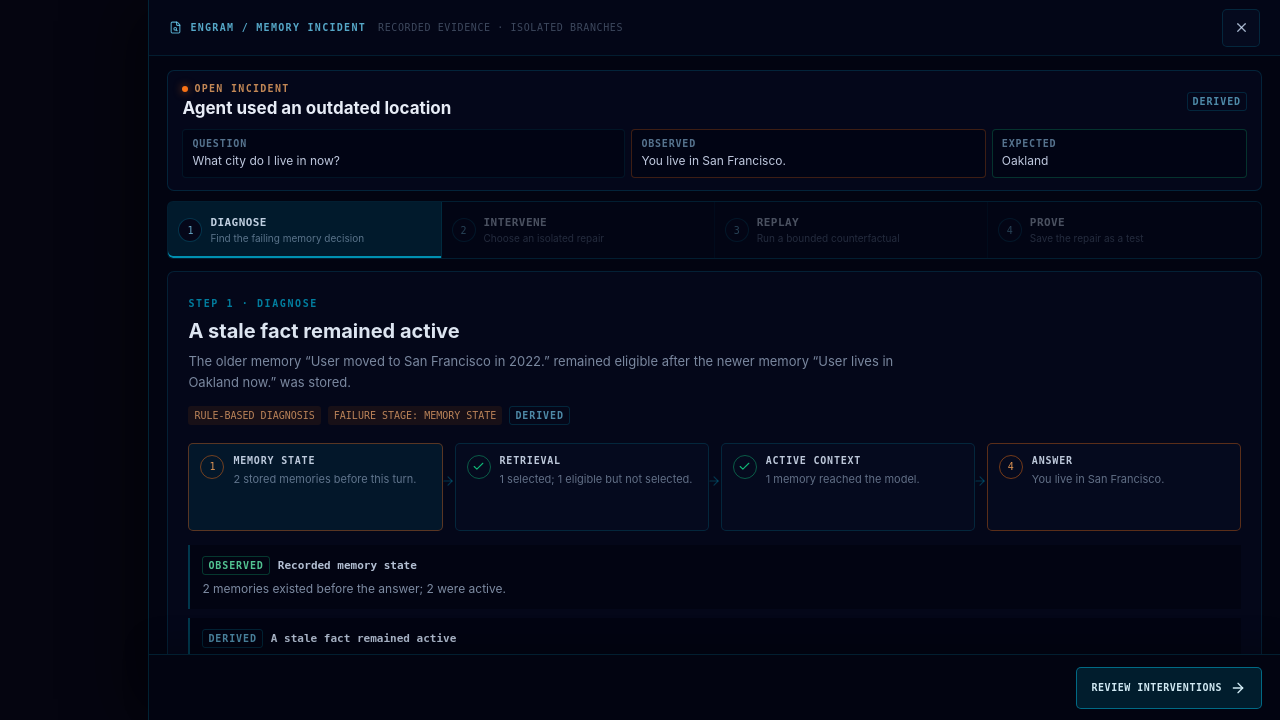
Scenario: IncidentWorkspace › reproduces the baseline before exporting a context regression
Click the button "Review interventions". click: (1169, 688)
box: x1=1076 y1=666 x2=1262 y2=708
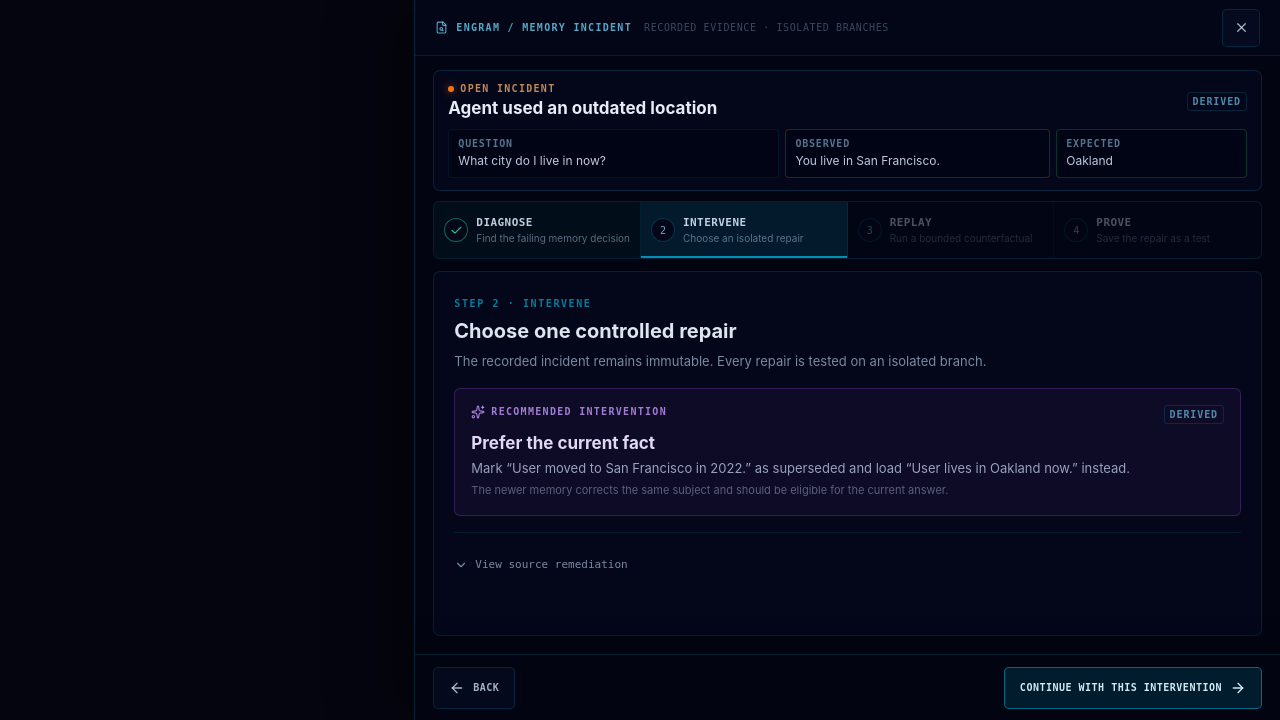
Click the button "Continue with this intervention". click: (1133, 688)
box: x1=1004 y1=666 x2=1262 y2=708
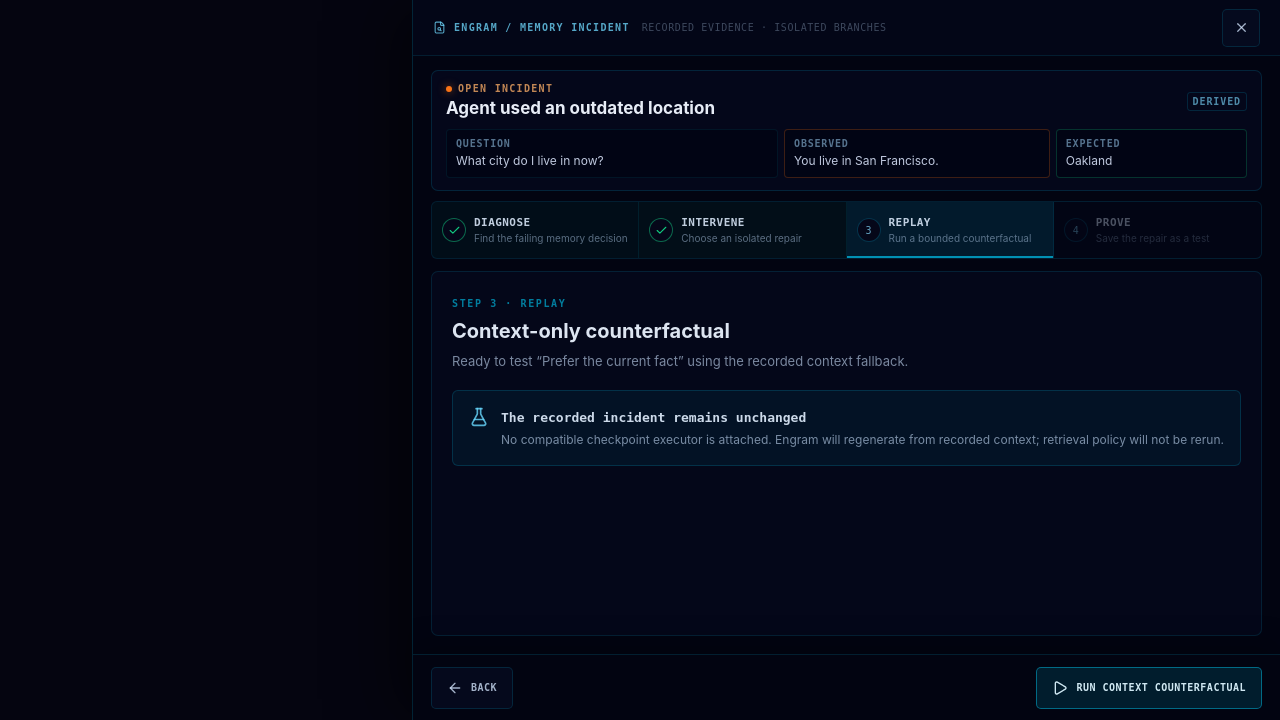
Expected: the tab "4 Prove Save the repair as a test" is disabled, x1=1054 y1=202 x2=1261 y2=258
Click the button "Run context counterfactual". click: (1149, 688)
box: x1=1036 y1=666 x2=1262 y2=708
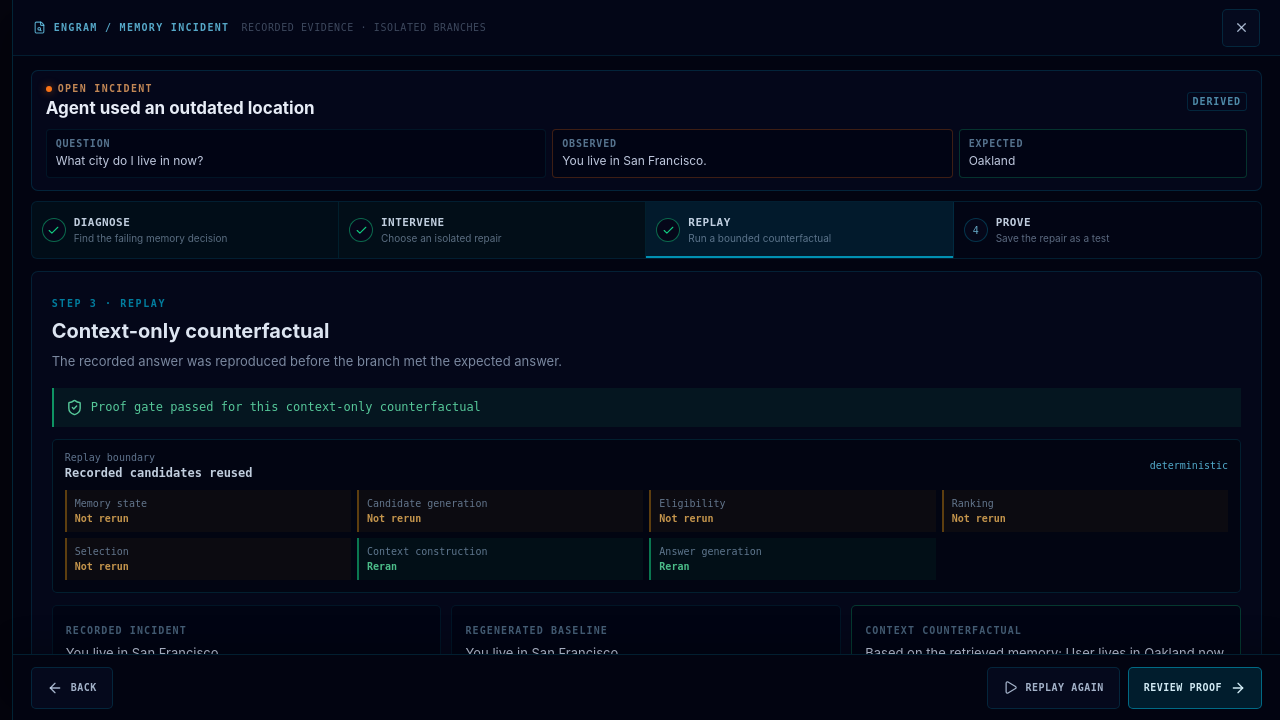
Result: the heading "Context-only counterfactual" is shown at x1=52 y1=319 x2=330 y2=343
Result: the text "Proof gate passed for this context-only counterfactual" is shown at x1=91 y1=399 x2=481 y2=416
Result: the tab "4 Prove Save the repair as a test" is enabled at x1=954 y1=202 x2=1261 y2=258
Click the button "Review proof". click: (1195, 688)
box: x1=1128 y1=666 x2=1262 y2=708
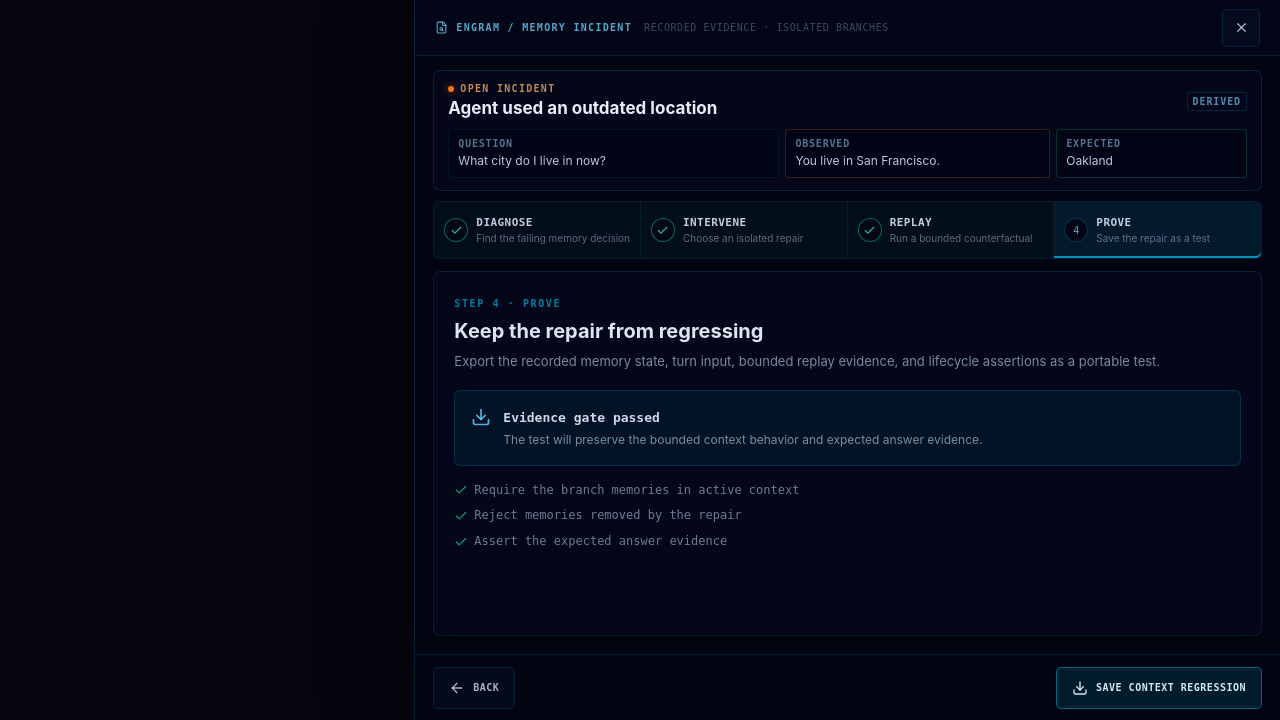
Result: the tab "4 Prove Save the repair as a test" is selected at x1=1054 y1=202 x2=1261 y2=258
Click the button "Save context regression". click: (1159, 688)
box: x1=1056 y1=666 x2=1262 y2=708
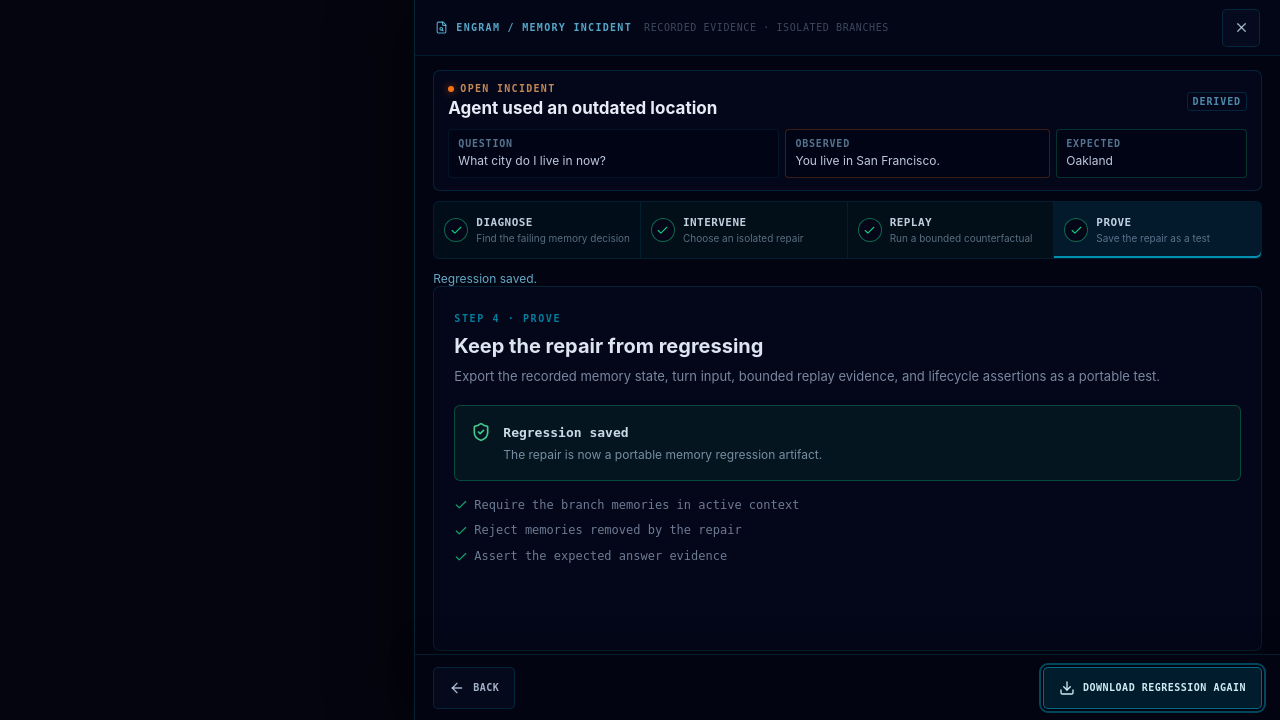
Result: the text "Regression saved" is shown at x1=503 y1=425 x2=628 y2=440
